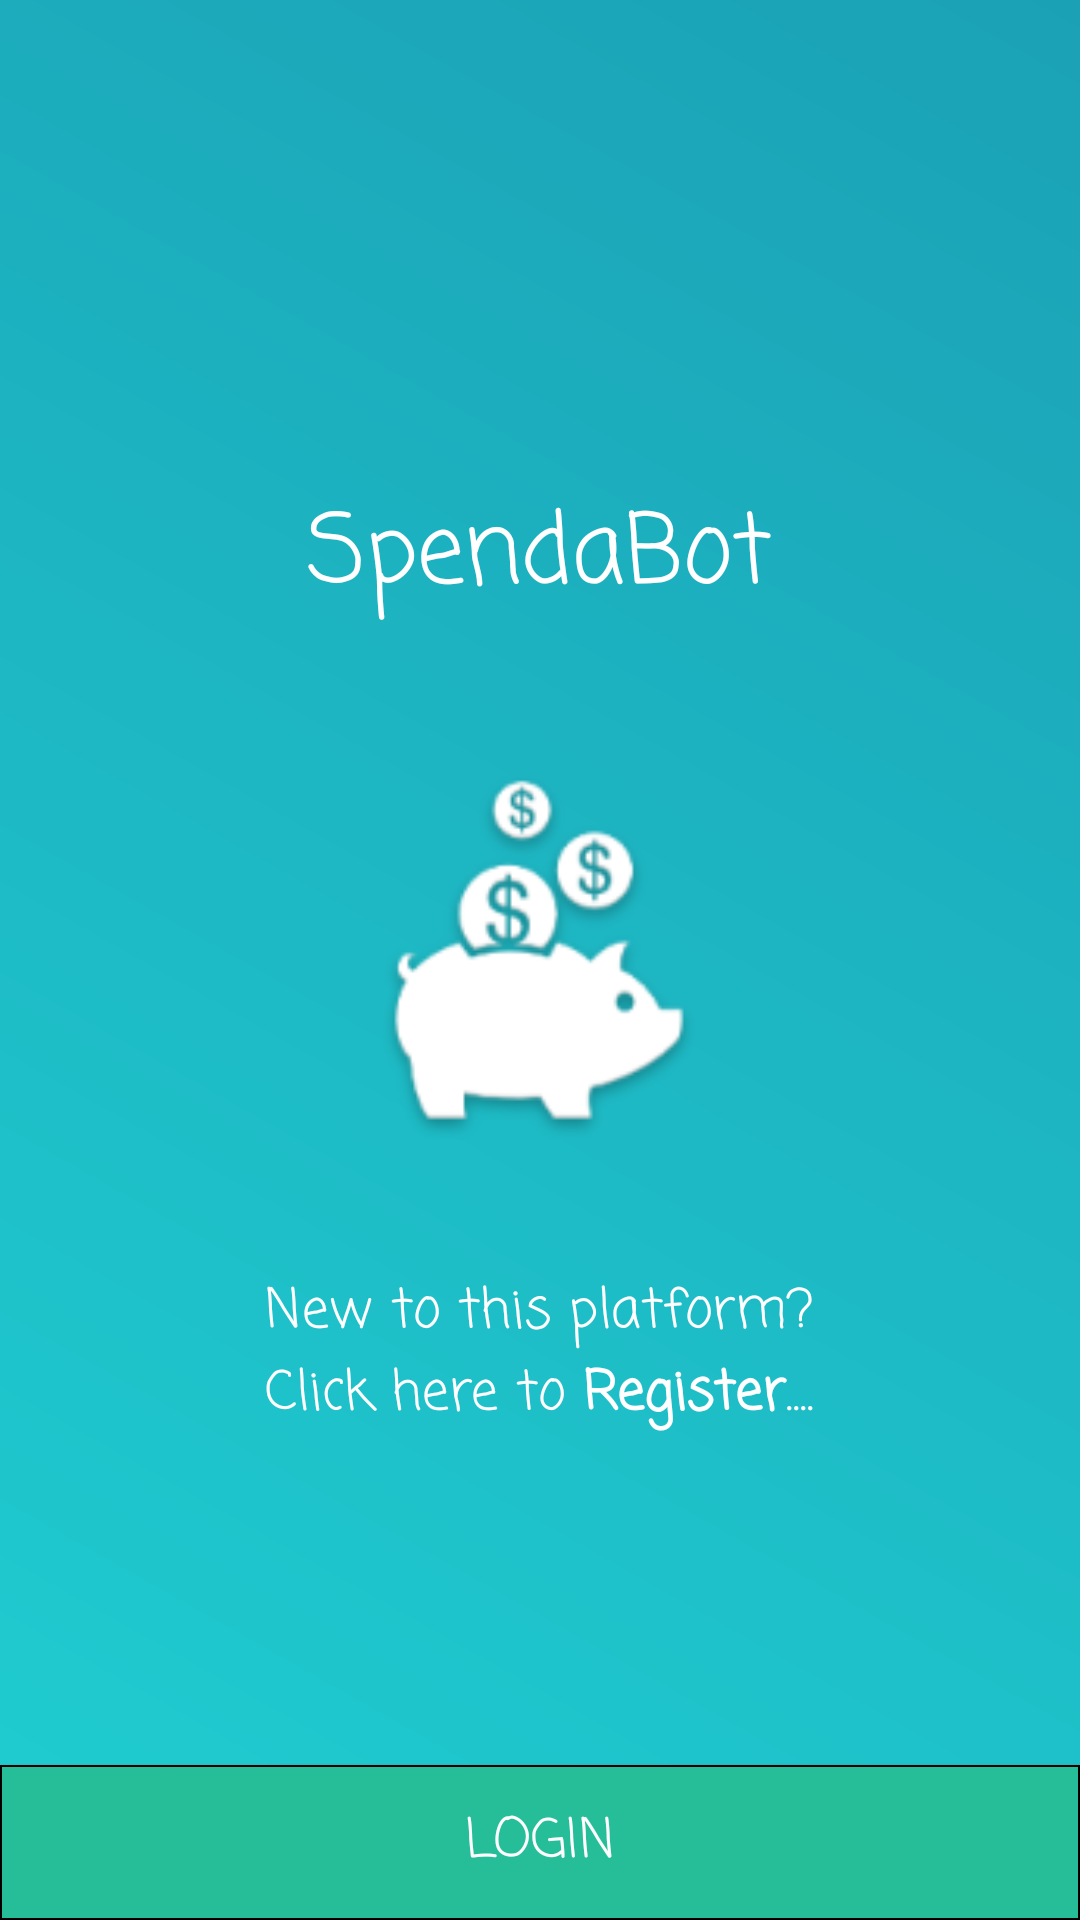

Icons on this 1080*1920 Android screen, each with its box as (x1, y1, x2, y2):
piggy bank: (394, 780, 684, 1125)
